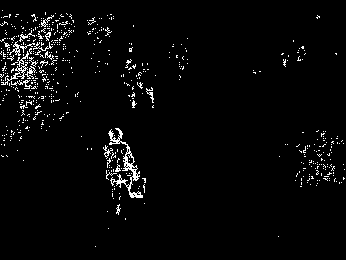person: (100, 125, 148, 213)
